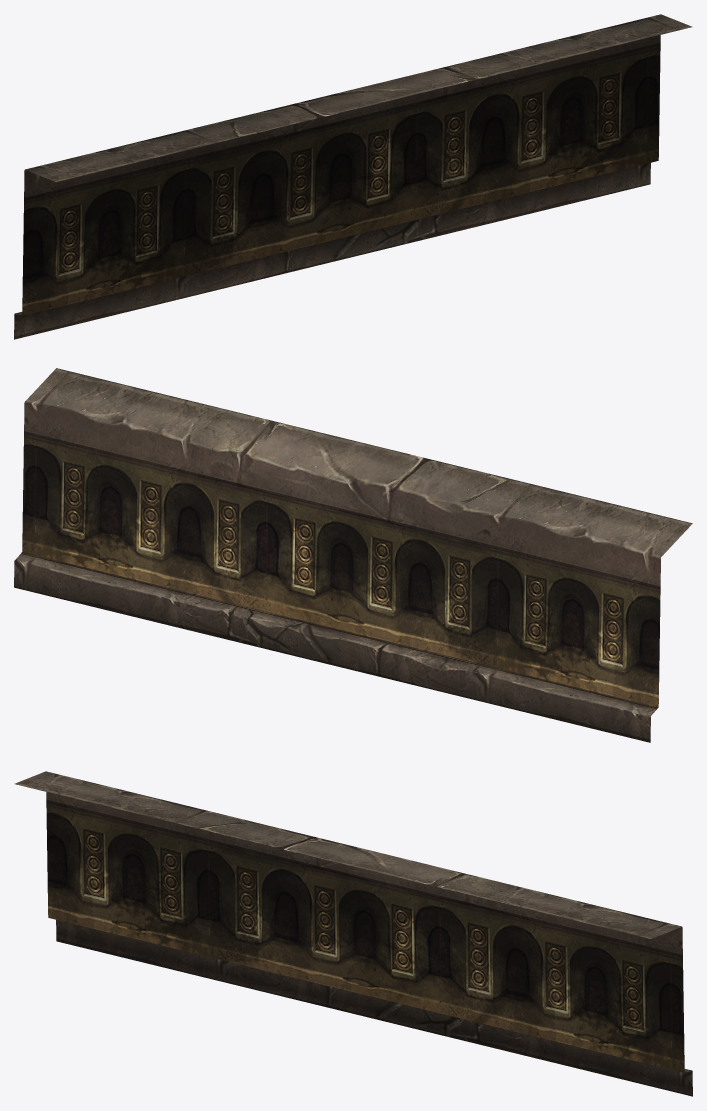
The model's file is A03_low_wall_a.FBX.
3 views of the same model, one above another, from view 1: azimuth 30°, elevation 25°; view 2: azimuth 150°, elevation 25°; view 3: azimuth 330°, elevation 25° (orthographic).
Visible parts, largest first — view 1: A03_low_wall_a; view 2: A03_low_wall_a; view 3: A03_low_wall_a.
Boxes of the visible parts, box(x1,y1,x2,y2) form: A03_low_wall_a: box(14, 14, 692, 339); A03_low_wall_a: box(14, 368, 692, 742); A03_low_wall_a: box(14, 771, 692, 1096).
Bounding box in the file's own units: 3.51 × 0.9934 × 0.4054.
Materials: 1 (1 with a texture image).
